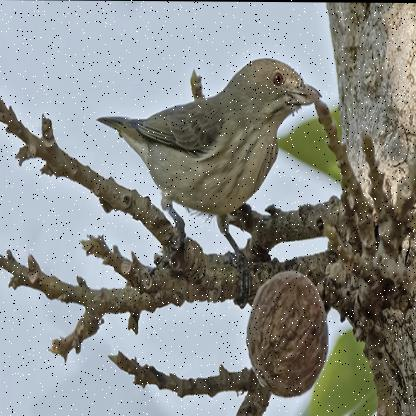Burung: (95, 56, 324, 281)
